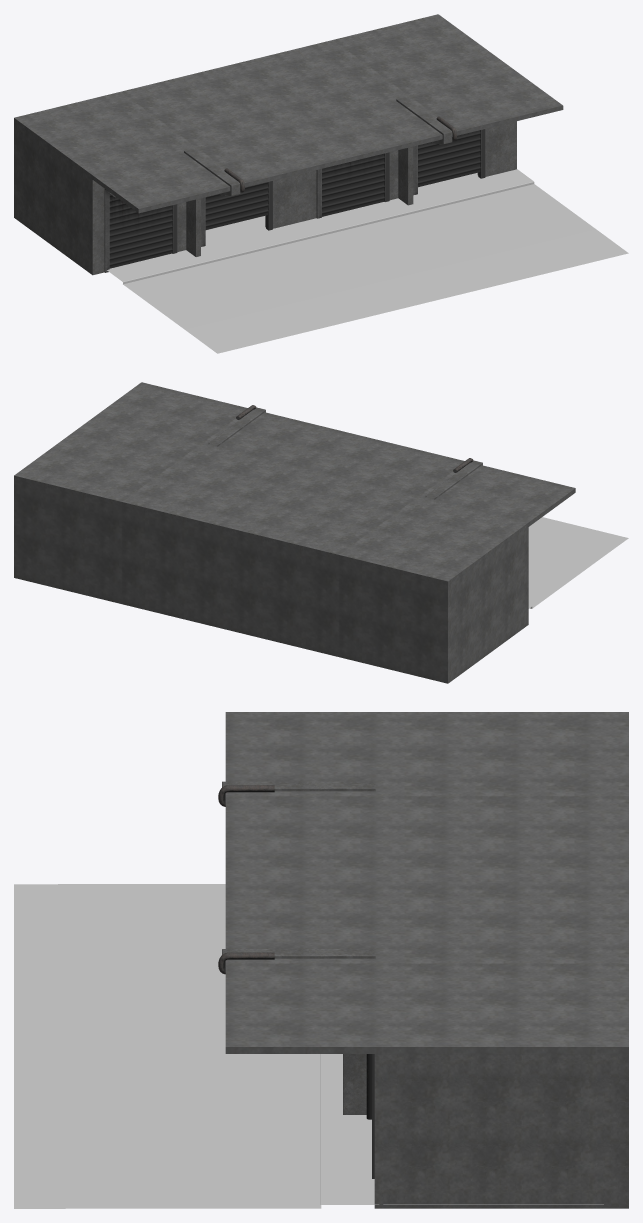
3 views of the same model, one above another, from view 1: azimuth 30°, elevation 25°; view 2: azimuth 150°, elevation 25°; view 3: azimuth 270°, elevation 25° (orthographic). The views are drawn at different scales.
Visible parts, largest first — view 1: Base1 (×2), Pvement1, Pvement2, Gate6, Gate4, Gate3, Gate5, Pillar1 (×2), Pillar2 (×2); view 2: Base1 (×2), Pvement1, Pillar2 (×2); view 3: Base1 (×2), Pvement1, Pvement2, Pillar2 (×2), Pillar1, Pipe.
Part boxes in pixels (box(x1,y1,x2,y2)): Base1 (×2): box(14, 14, 563, 275); Pvement1: box(123, 184, 628, 353); Pvement2: box(107, 169, 534, 284); Gate6: box(104, 189, 177, 272); Gate4: box(316, 152, 389, 218); Gate3: box(413, 129, 485, 195); Gate5: box(201, 181, 272, 246); Pillar1 (×2): box(186, 146, 413, 256); Pillar2 (×2): box(184, 97, 452, 195); Base1 (×2): box(14, 382, 575, 683); Pvement1: box(528, 517, 628, 608); Pillar2 (×2): box(208, 407, 482, 499); Base1 (×2): box(225, 712, 628, 1208); Pvement1: box(14, 884, 321, 1208); Pvement2: box(320, 1054, 603, 1204); Pillar2 (×2): box(222, 781, 375, 966); Pillar1: box(343, 1054, 366, 1114); Pipe: box(218, 952, 371, 1119).
Bounding box in the file's own units: 62.06 × 14.61 × 48.12.
